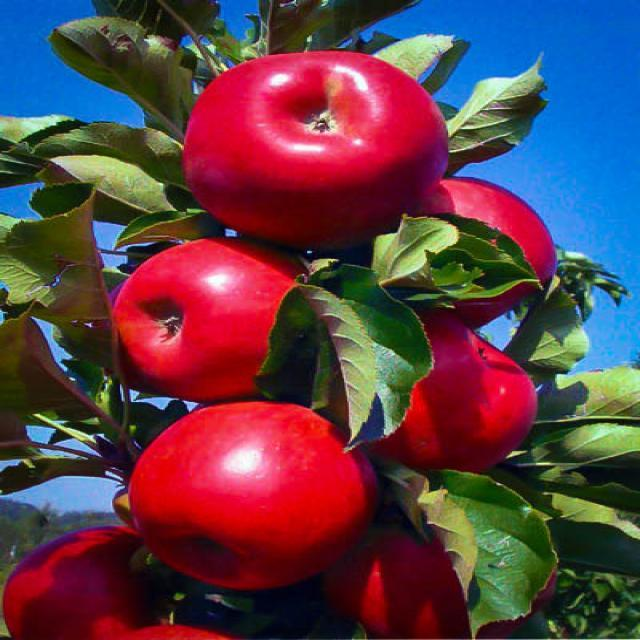APPLE: (128, 404, 379, 594), (184, 52, 456, 226), (104, 236, 296, 396), (9, 525, 270, 640), (359, 318, 542, 475), (400, 180, 563, 316), (346, 525, 518, 640)
